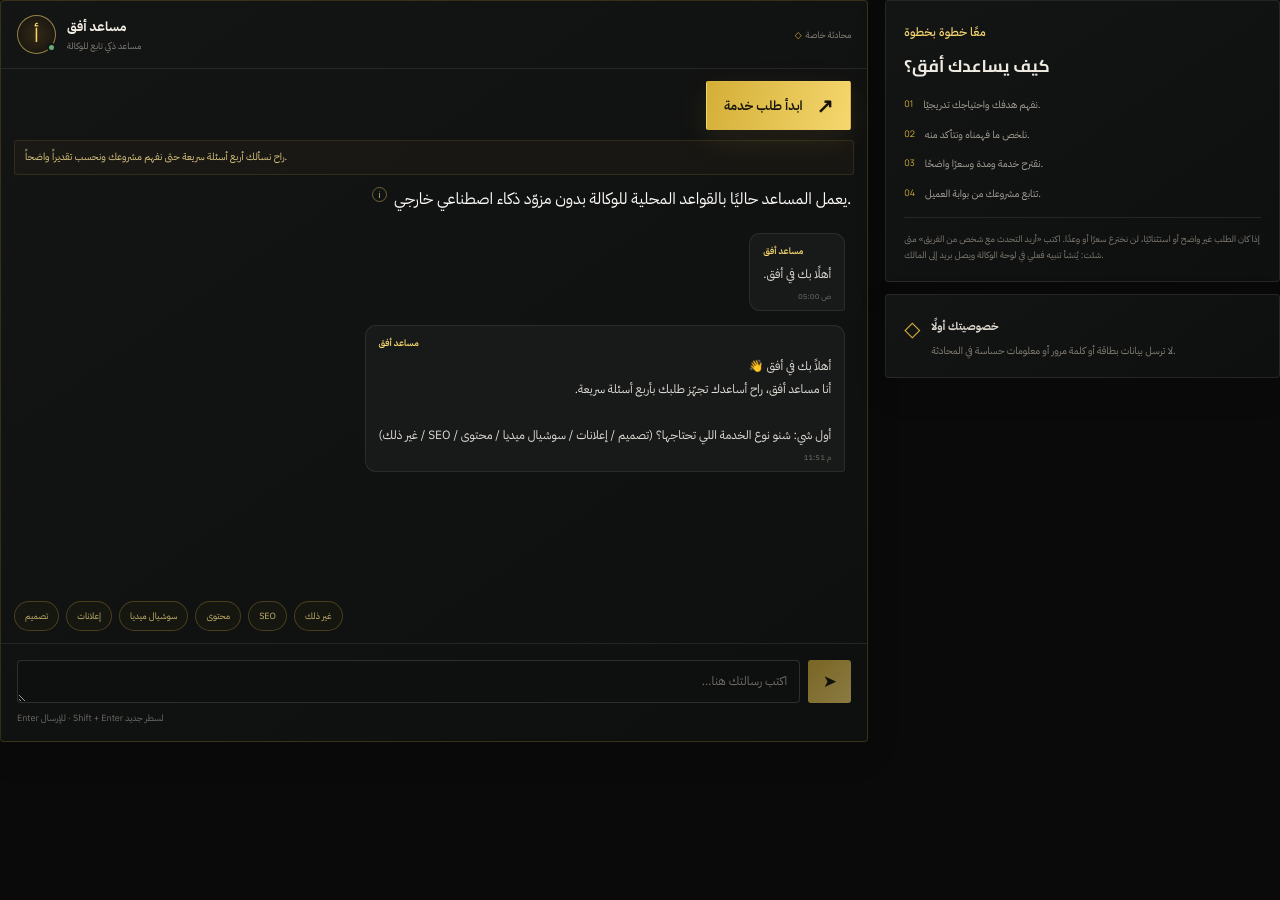
Test: when the save fails › tells the client plainly, offers a retry with the same request id, and confirms once saved
Click the button "إعلانات" at (89, 616), box [66, 600, 112, 630]
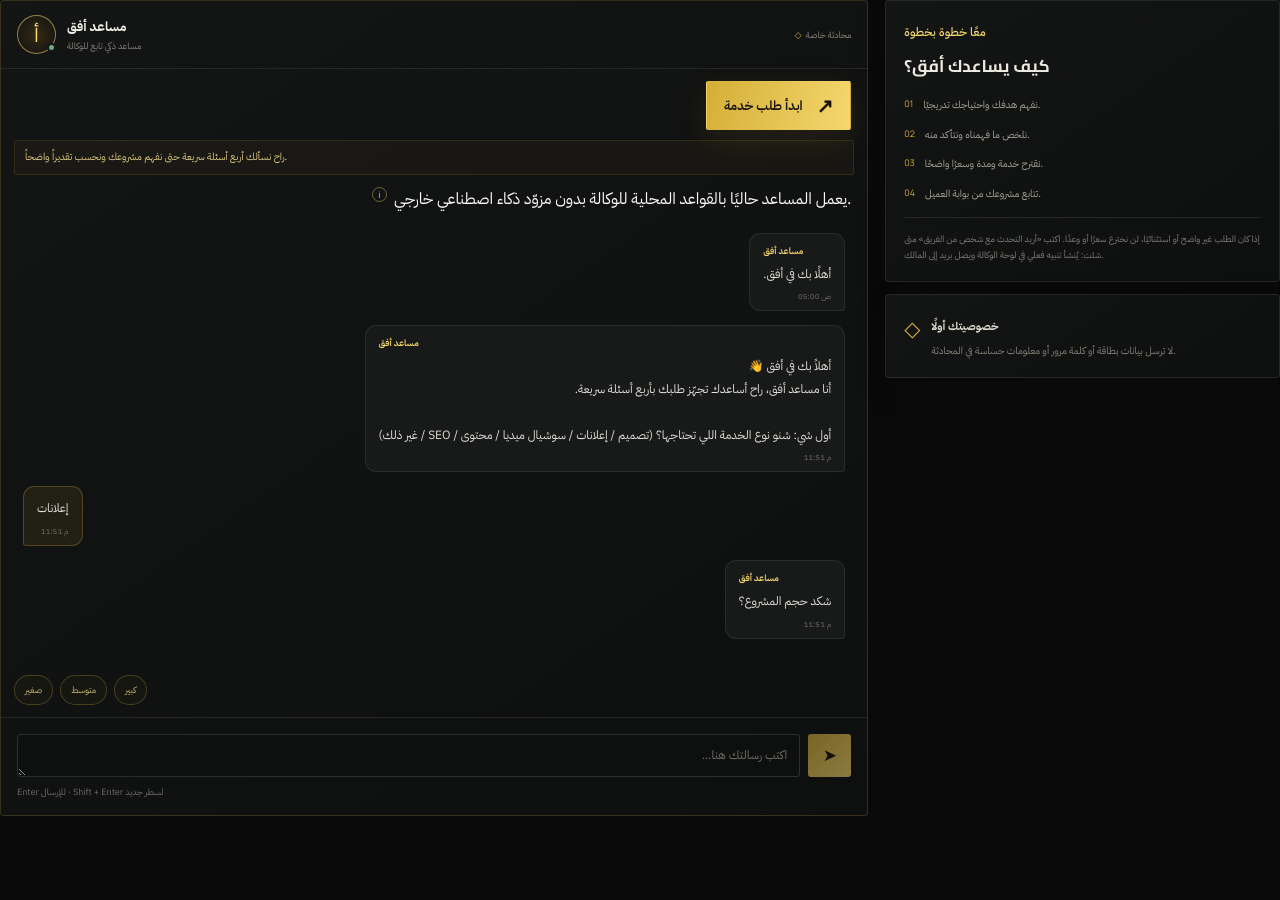
Click the button "متوسط" at (84, 690), box [60, 675, 107, 705]
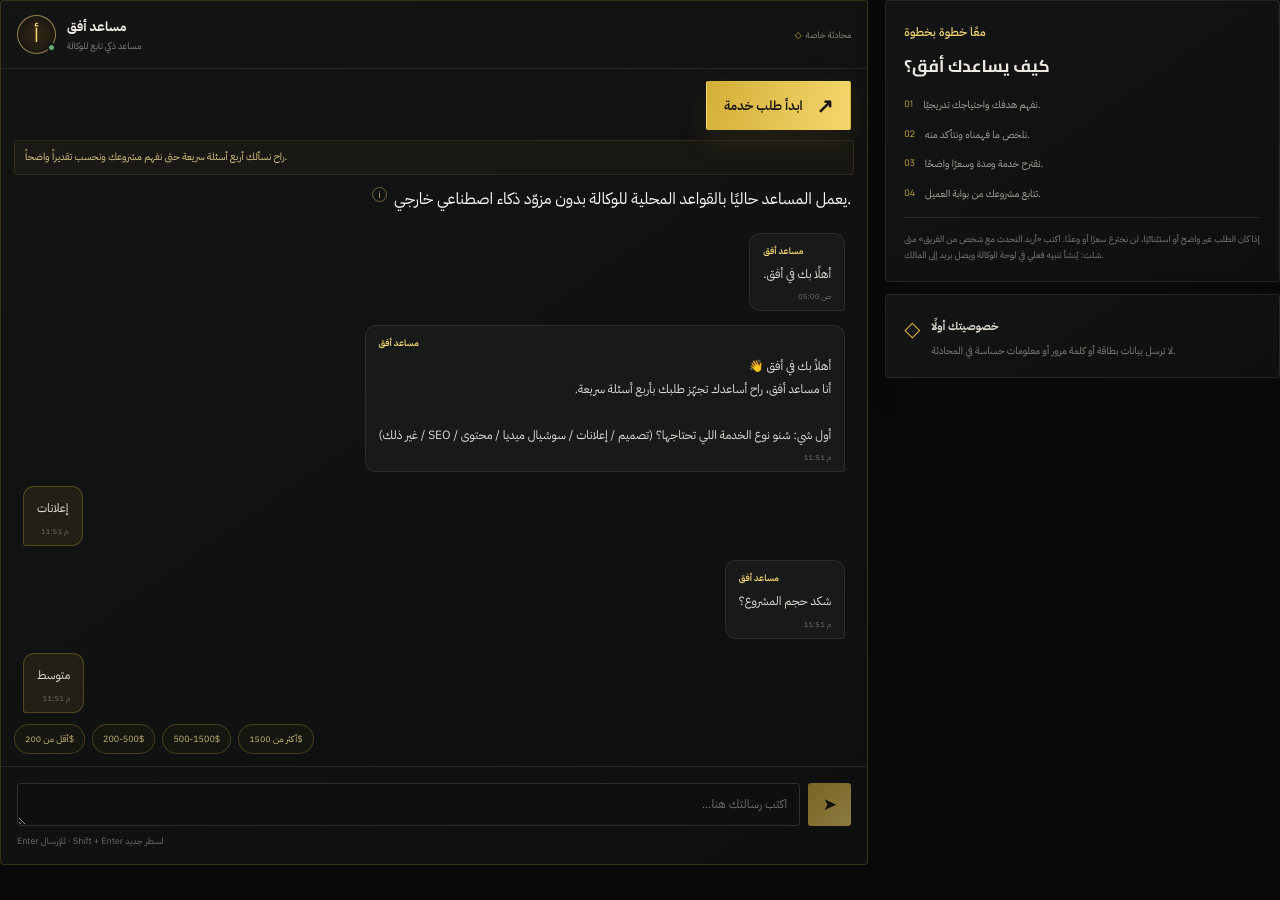
Click the button "أقل من 200$" at (50, 738), box [14, 724, 85, 754]
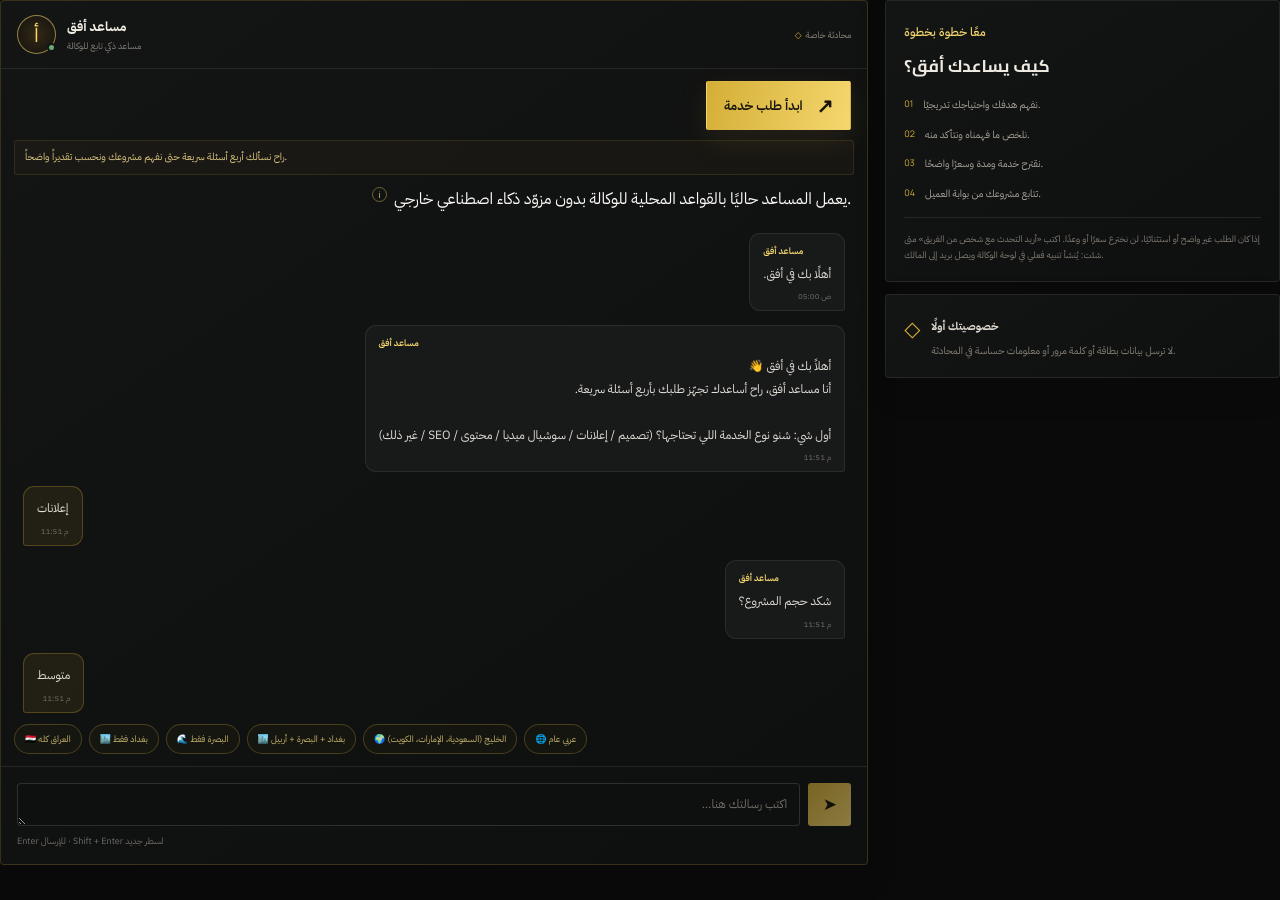
Click the button "🇮🇶 العراق كله" at (48, 738), box [14, 724, 82, 754]
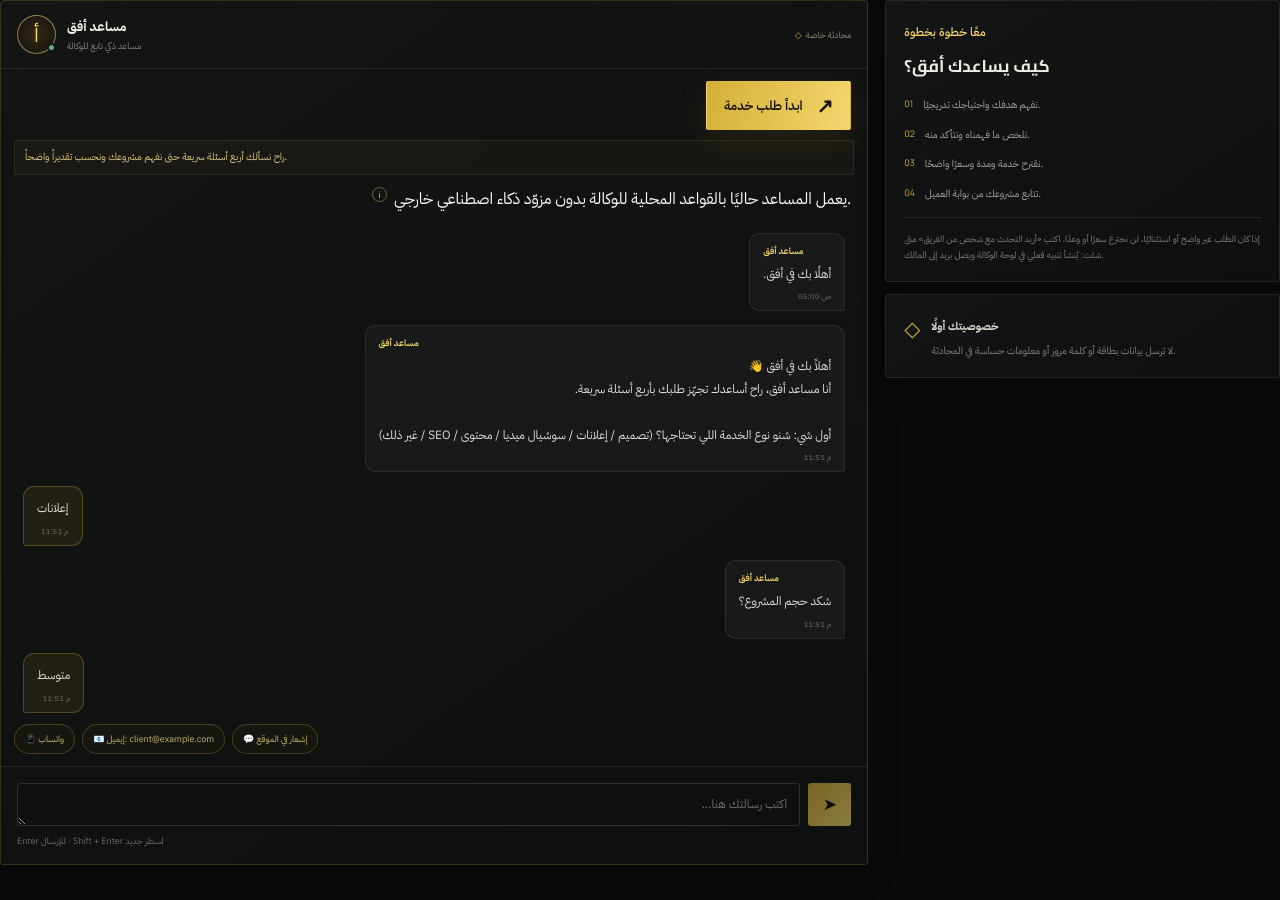
Click the button "📧 إيميل: client@example.com" at (154, 738), box [82, 724, 225, 754]
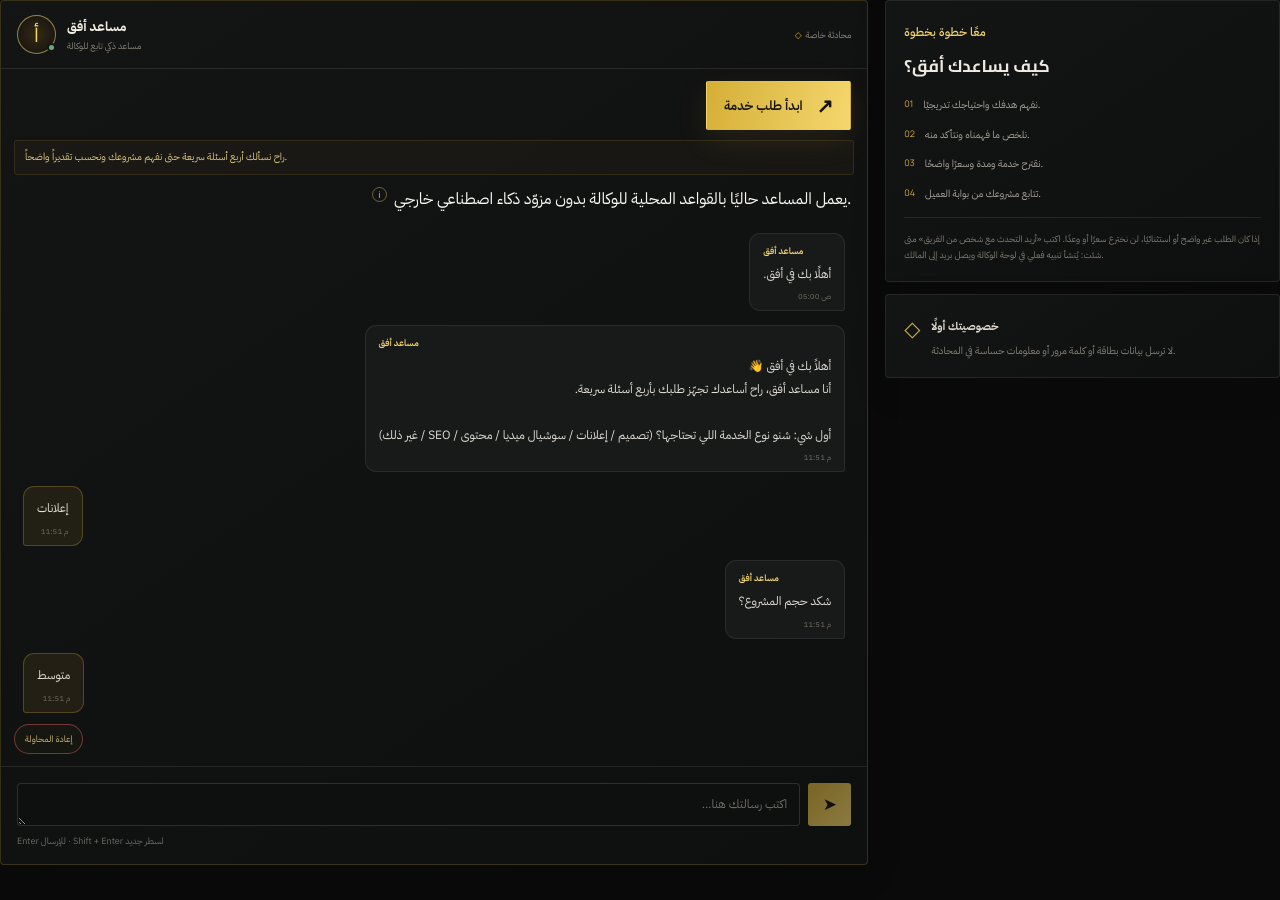
Expected: the text "تم حفظ طلبك ✅" is not shown
Click the button "إعادة المحاولة" at (49, 738), box [14, 724, 84, 754]
(page scrolled)
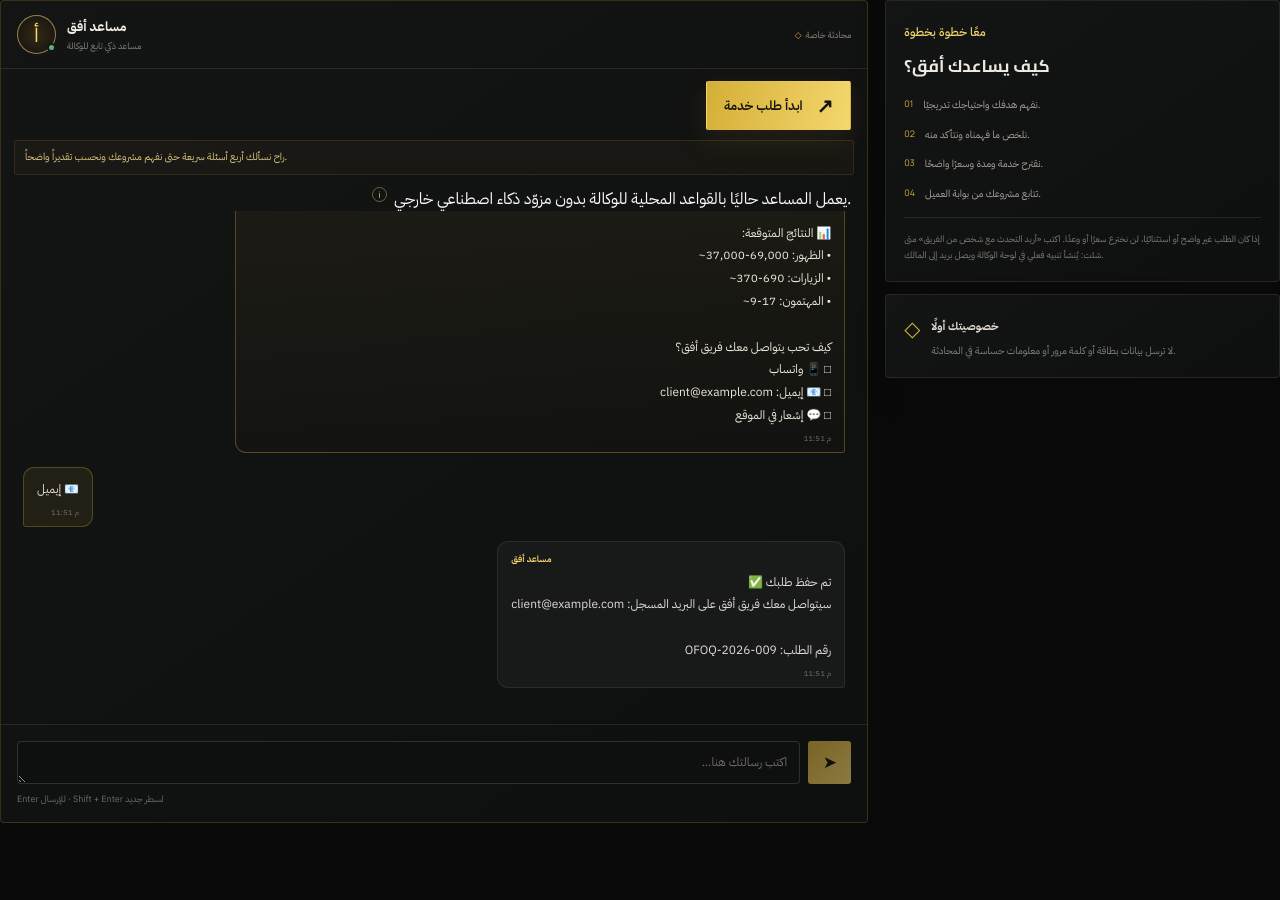
Expected: the text "تم حفظ طلبك ✅" is shown, [511, 573, 831, 659]
Expected: the button "إعادة المحاولة" is gone
